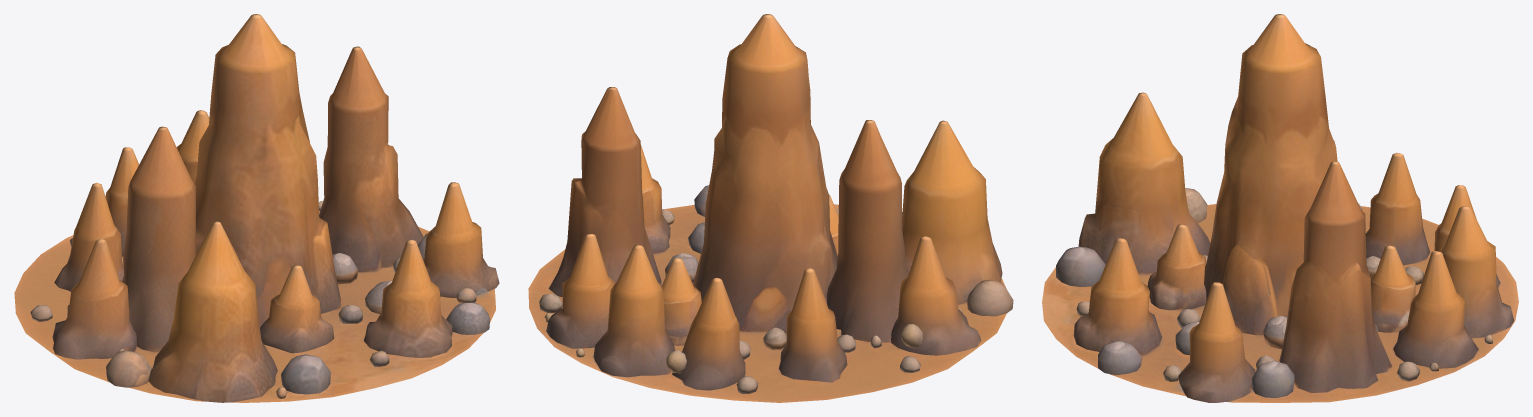
The model's file is r6c3_stalagmite_cluster.glb.
3 views of the same model, side by side, from view 1: azimuth 30°, elevation 25°; view 2: azimuth 150°, elevation 25°; view 3: azimuth 270°, elevation 25° (orthographic).
Size of the model in its own units: 1 by 0.666 by 1.
1 material, 1 textured.
